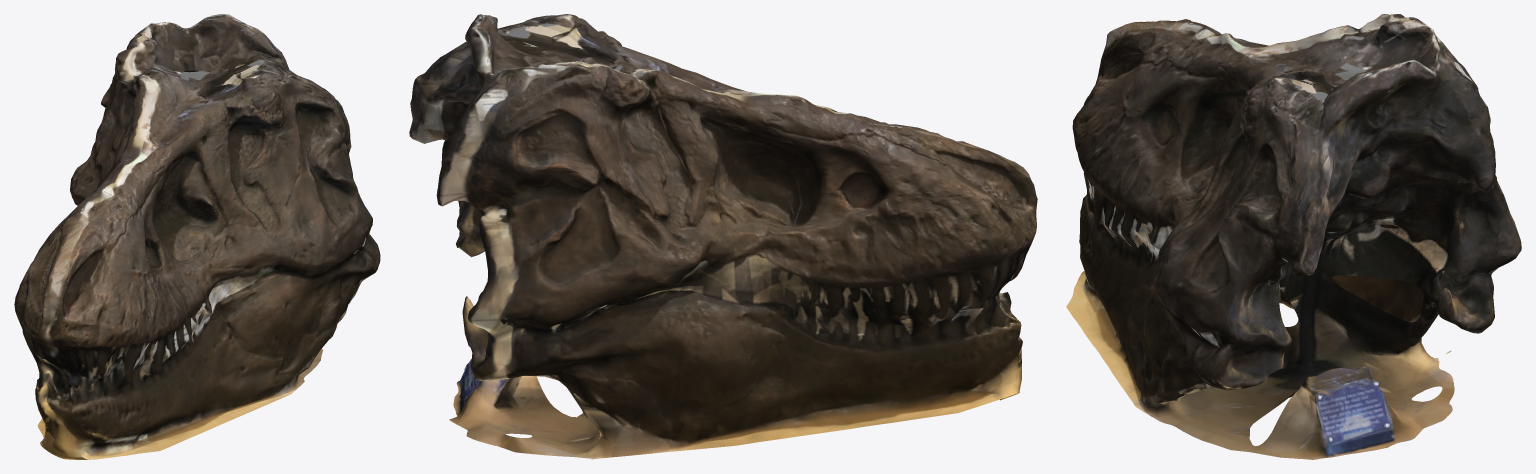
Rendered from skull.glb.
3 views of the same model, side by side, from view 1: azimuth 30°, elevation 25°; view 2: azimuth 150°, elevation 25°; view 3: azimuth 270°, elevation 25° (orthographic). The views are drawn at different scales.
Bounding box in the file's own units: 26018 × 18776 × 20840.
1 material, 1 textured.
